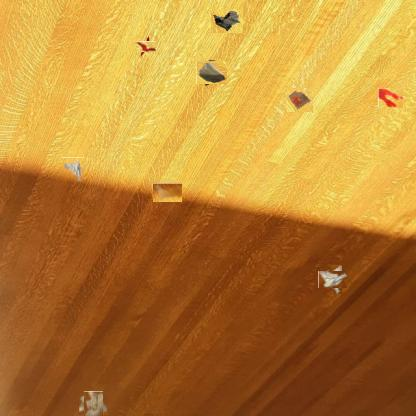dirty: (211, 9, 243, 33), (198, 59, 226, 86), (287, 88, 313, 112), (321, 268, 345, 291), (81, 393, 105, 416), (62, 157, 84, 182), (137, 39, 154, 55)
liquid: (152, 183, 182, 202), (378, 88, 403, 108)
